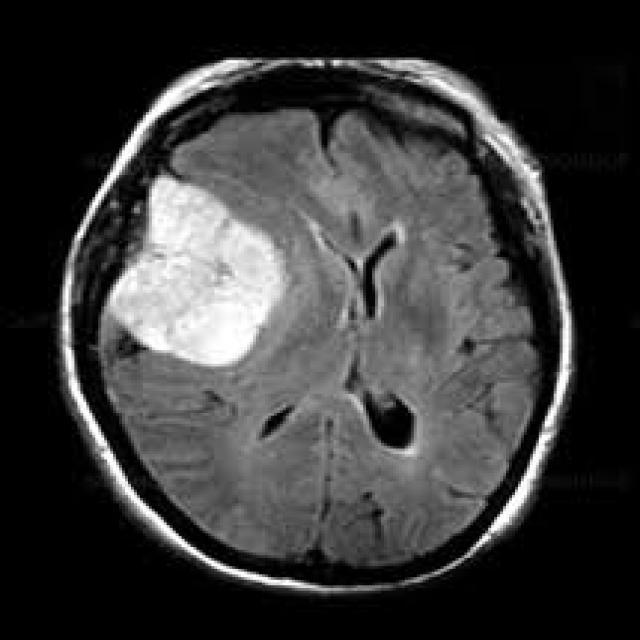Meningioma: (111, 178, 282, 365)
